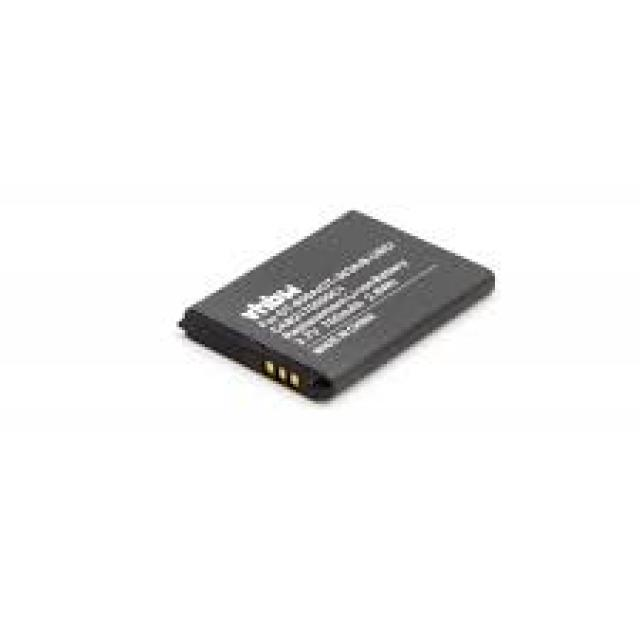non-organic waste: (179, 211, 496, 402)
